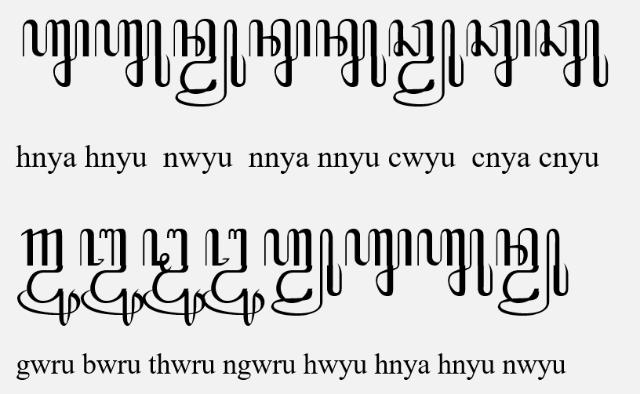bwru: (80, 228, 144, 326)
cny: (466, 18, 530, 87)
cnyu: (534, 18, 608, 87)
cwyu: (388, 18, 464, 108)
gwru: (17, 228, 81, 326)
hny: (22, 18, 90, 87), (344, 229, 412, 297)
hnyu: (416, 228, 494, 298), (94, 19, 170, 87)
hwyu: (264, 227, 342, 316)
ngwru: (201, 228, 265, 328)
nny: (248, 18, 310, 87)
nnyu: (315, 18, 387, 87)
nwyu: (495, 227, 569, 316), (172, 18, 245, 108)
thwru: (142, 228, 206, 326)
